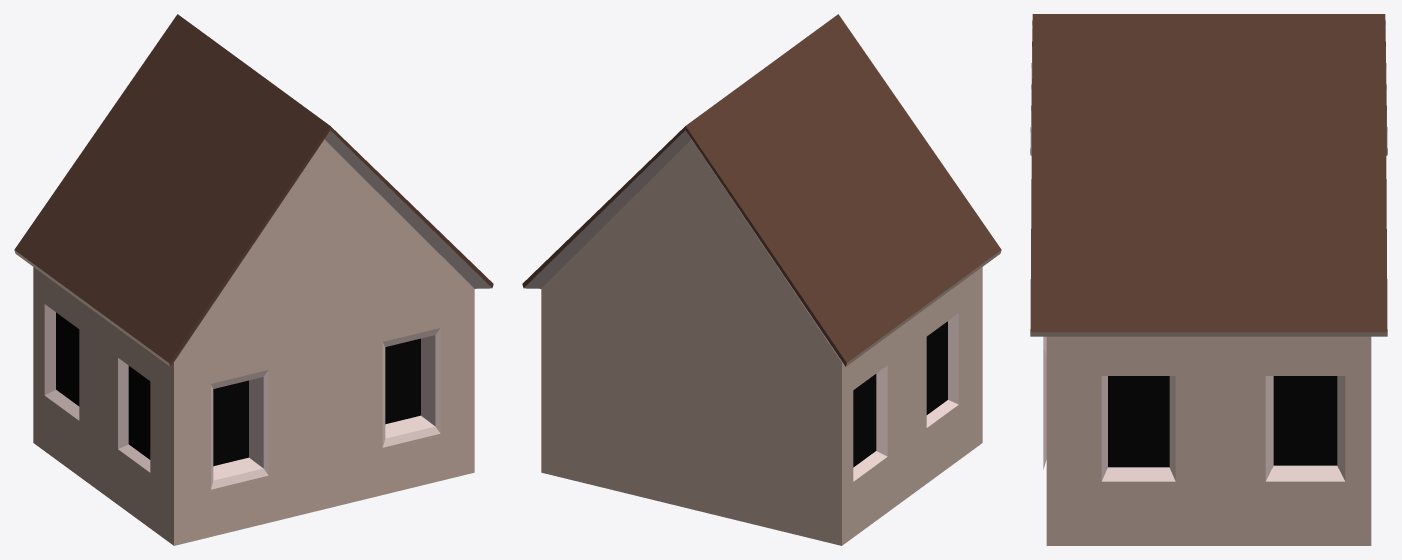
The model's file is house (1).fbx.
The picture shows the model from 3 angles, left to right: view 1: azimuth 30°, elevation 25°; view 2: azimuth 150°, elevation 25°; view 3: azimuth 270°, elevation 25°; orthographic projection. The views are drawn at different scales.
Visible parts, largest first — view 1: Cube.018; view 2: Cube.018; view 3: Cube.018.
Boxes of the visible parts, <box> form: Cube.018: <box>14,14,493,545</box>; Cube.018: <box>522,14,1001,545</box>; Cube.018: <box>1030,14,1387,545</box>.
Size of the model in its own units: 3947 by 4506 by 3259.
